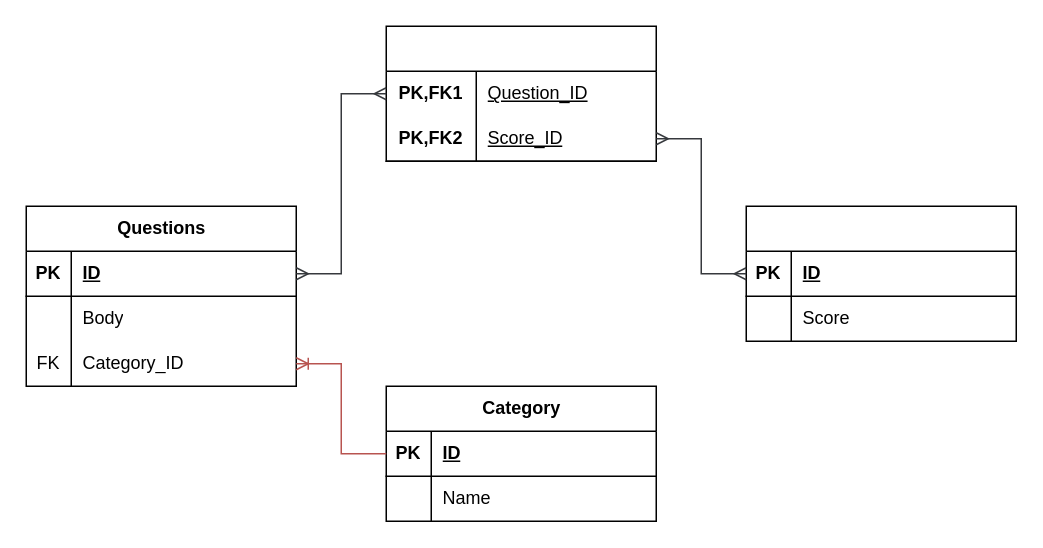
Image size: 1043x548. Some labels were removed from this diagram. The shapes that lost their labels are listed below. From the top down, each one's box as (x1, y1, x2, y2) in pixels, then its label:
(385, 25, 656, 161): Question - Score
(745, 205, 1016, 341): Scores
